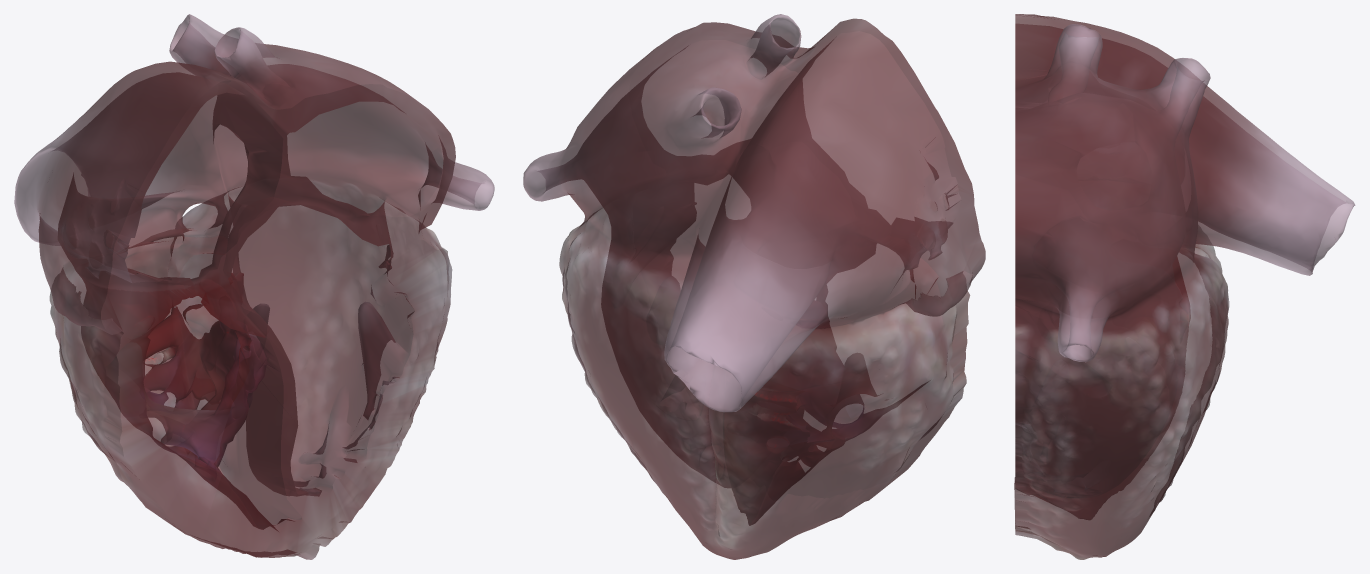
File: limbLeadsHeart (2).fbx
The picture shows the model from 3 angles, left to right: view 1: azimuth 30°, elevation 25°; view 2: azimuth 150°, elevation 25°; view 3: azimuth 270°, elevation 25°; orthographic projection. The views are drawn at different scales.
Visible parts, largest first — view 1: MM634_BP51951_FMA4706_Coronary_sinus821; view 2: MM634_BP51951_FMA4706_Coronary_sinus821; view 3: MM634_BP51951_FMA4706_Coronary_sinus821.
Boxes of the visible parts, box(x1,y1,x2,y2) form: MM634_BP51951_FMA4706_Coronary_sinus821: box(14, 14, 494, 559); MM634_BP51951_FMA4706_Coronary_sinus821: box(523, 14, 985, 559); MM634_BP51951_FMA4706_Coronary_sinus821: box(1014, 14, 1355, 559).
Bounding box in the file's own units: 0.6869 × 0.4911 × 0.8184.
